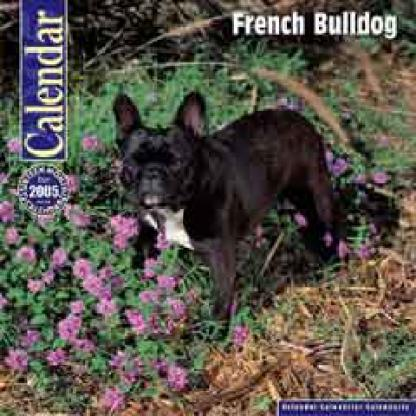French_bulldog: (108, 81, 343, 346)
